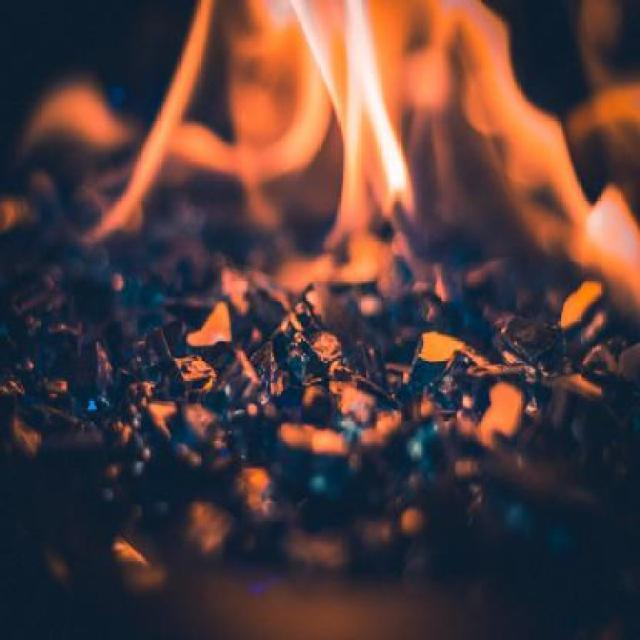Fire: (276, 0, 444, 237)
